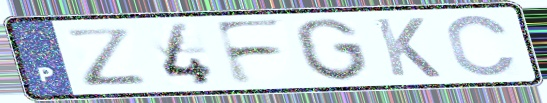4: (159, 21, 216, 88)
C: (443, 13, 520, 79)
F: (209, 17, 288, 88)
G: (291, 16, 373, 83)
K: (370, 16, 445, 79)
Z: (62, 25, 151, 88)
